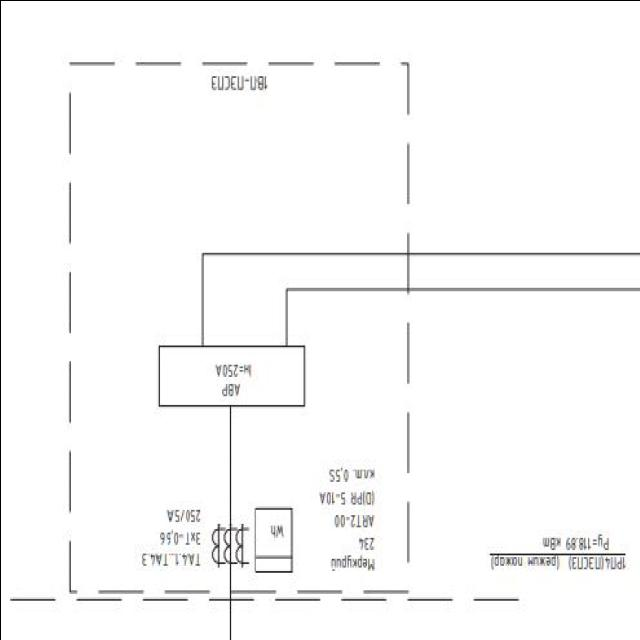-: (314, 467, 378, 575), (152, 504, 202, 550), (207, 73, 268, 94)
AVR: (155, 345, 305, 409)
TT: (209, 520, 251, 570)
WH: (254, 507, 293, 575)
